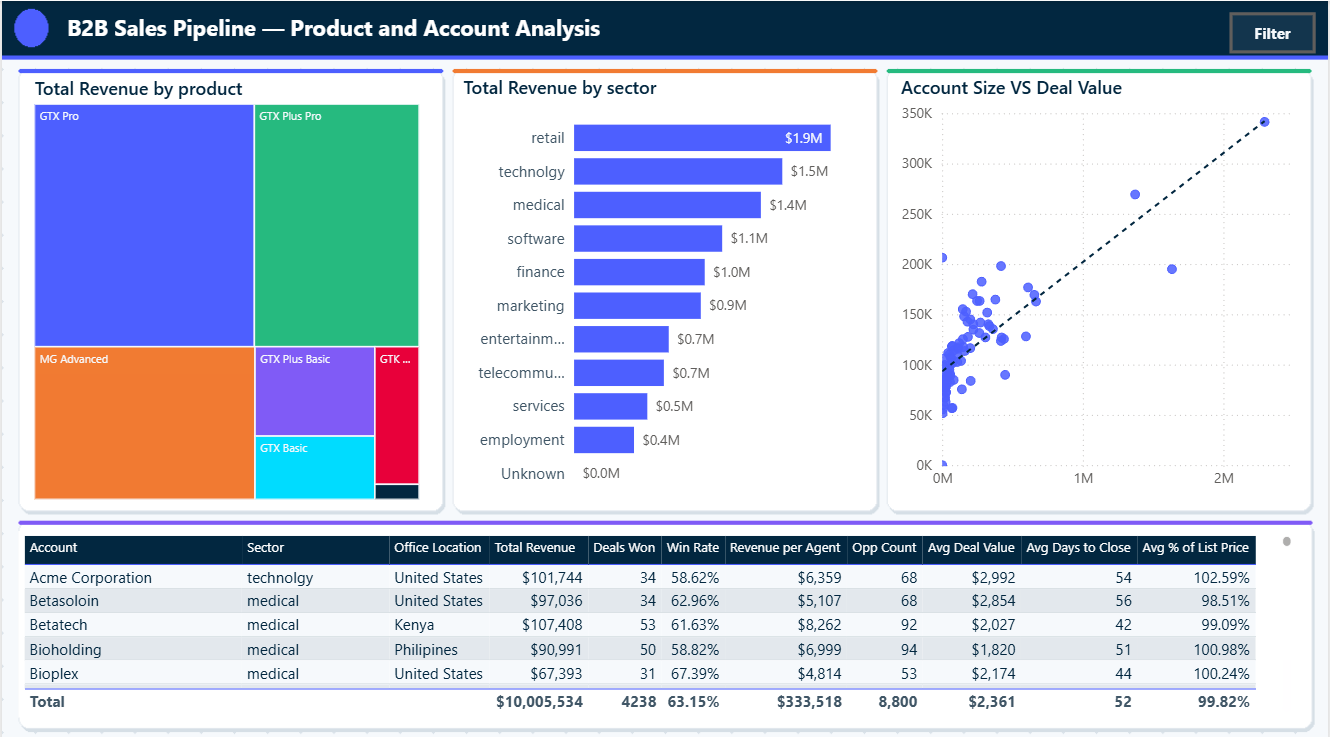

The dashboard page shown, as its layout file describes it:
{"tool":"powerbi","page":{"name":"Product & Account","canvas":[1280,720],"ordinal":2},"visuals":[{"type":"shape","box":[0,0,204.5,720.4],"z":0,"group":"g2"},{"type":"group","id":"g1","title":"Main Page 3","box":[15.3,6,1252,685.2],"z":0},{"type":"treemap","fields":{"Values":["Table.Total Revenue"],"Group":["vw_sales_gold.product"]},"box":[26.2,72.3,381.2,413.8],"z":0,"group":"g1"},{"type":"group","id":"g2","title":"FilterPane Page 3","box":[0,0,204.5,720.4],"z":1000},{"type":"slicer","fields":{"Values":["vw_sales_gold.regional_office"]},"box":[5.5,68.6,170.2,115.3],"z":1000,"group":"g2"},{"type":"clusteredBarChart","fields":{"Category":["vw_sales_gold.sector"],"Y":["Table.Total Revenue"]},"box":[439.6,71.1,396.9,416.2],"z":1000,"group":"g1"},{"type":"scatterChart","title":"Account Size VS Deal Value","fields":{"Category":["vw_sales_gold.account"],"X":["Sum(vw_sales_gold.account_revenue_millions)"],"Y":["Sum(vw_sales_gold.close_value)"]},"box":[861.8,71.1,399.3,409],"z":2000,"group":"g1"},{"type":"slicer","fields":{"Values":["vw_sales_gold.sector"]},"box":[4.1,388.3,171.5,301.9],"z":2000,"group":"g2"},{"type":"slicer","fields":{"Values":["vw_sales_gold.manager"]},"box":[2.7,192.1,172.9,186.6],"z":3000,"group":"g2"},{"type":"tableEx","fields":{"Values":["vw_sales_gold.account","vw_sales_gold.sector","vw_sales_gold.office_location","Table.Total Revenue","Table.Deals Won","Table.Win Rate","Table.Revenue per Agent","Table.Opp Count","Table.Avg Deal Value","Table.Avg Days to Close","Table.Avg % of List Price"]},"box":[15.3,511.5,1234.2,179.8],"z":3000,"group":"g1"},{"type":"textbox","box":[57.9,6,707,42.2],"z":4000,"group":"g1"},{"type":"actionButton","box":[153.7,8.2,34.3,39.8],"z":4000,"group":"g2"},{"type":"shape","box":[8.2,6.9,126.2,54.9],"z":5000,"group":"g2"},{"type":"actionButton","box":[1184.2,11.1,83.2,39.7],"z":5000,"group":"g1"}]}

Visuals, with their boxes in screenshot pixels (x1, y1, x2, y2), scaled from the page's 1280x720 canvas onto the 1330x737 screenshot:
shape: {"x1": 0, "y1": 0, "x2": 212, "y2": 736}
"Main Page 3" group: {"x1": 16, "y1": 6, "x2": 1317, "y2": 708}
treemap - Table.Total Revenue x vw_sales_gold.product: {"x1": 27, "y1": 74, "x2": 423, "y2": 498}
"FilterPane Page 3" group: {"x1": 0, "y1": 0, "x2": 212, "y2": 736}
slicer - vw_sales_gold.regional_office: {"x1": 6, "y1": 70, "x2": 183, "y2": 188}
clusteredBarChart - vw_sales_gold.sector x Table.Total Revenue: {"x1": 457, "y1": 73, "x2": 869, "y2": 499}
"Account Size VS Deal Value" scatterChart: {"x1": 895, "y1": 73, "x2": 1310, "y2": 491}
slicer - vw_sales_gold.sector: {"x1": 4, "y1": 397, "x2": 182, "y2": 706}
slicer - vw_sales_gold.manager: {"x1": 3, "y1": 197, "x2": 182, "y2": 388}
tableEx - vw_sales_gold.account x vw_sales_gold.sector: {"x1": 16, "y1": 524, "x2": 1298, "y2": 708}
textbox: {"x1": 60, "y1": 6, "x2": 795, "y2": 49}
actionButton: {"x1": 160, "y1": 8, "x2": 195, "y2": 49}
shape: {"x1": 9, "y1": 7, "x2": 140, "y2": 63}
actionButton: {"x1": 1230, "y1": 11, "x2": 1317, "y2": 52}
